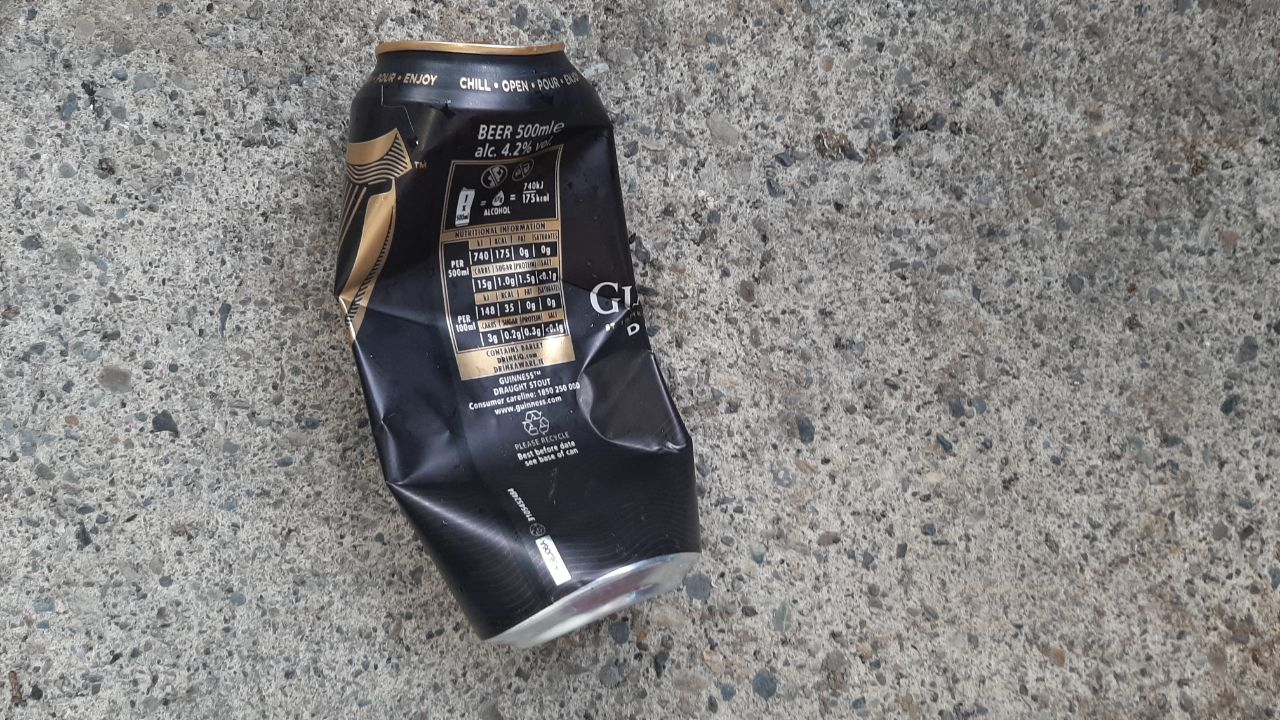Can: (331, 39, 701, 652)
